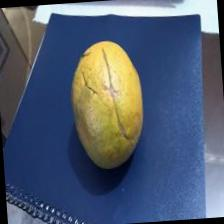Orange Rotten: (58, 28, 160, 198)
